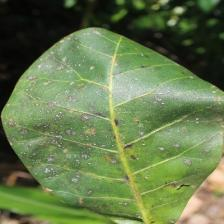red rust: (0, 27, 224, 224)
